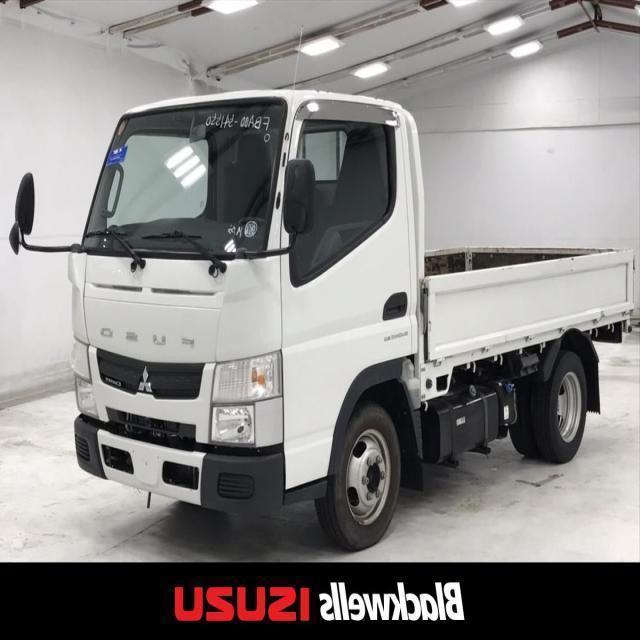truck: (6, 56, 634, 566)
